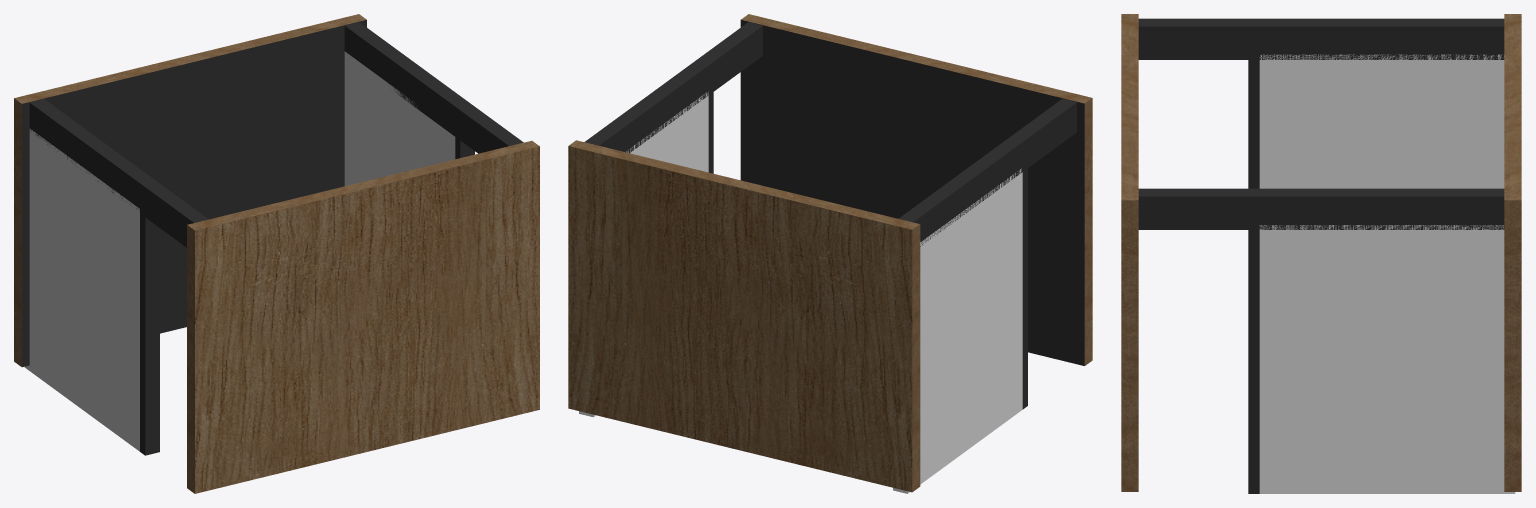
The model's file is vergader.fbx.
3 views of the same model, side by side, from view 1: azimuth 30°, elevation 25°; view 2: azimuth 150°, elevation 25°; view 3: azimuth 270°, elevation 25° (orthographic). The views are drawn at different scales.
Visible parts, largest first — view 1: wood_walls, glass, upper; view 2: wood_walls, glass, upper; view 3: glass, upper, wood_walls.
Boxes of the visible parts, box(x1,y1,x2,y2) form: wood_walls: box(14, 14, 539, 493); glass: box(24, 51, 474, 455); upper: box(29, 22, 523, 247); wood_walls: box(568, 14, 1092, 492); glass: box(579, 90, 1027, 493); upper: box(584, 22, 1076, 246); glass: box(1248, 54, 1515, 493); upper: box(1138, 18, 1504, 229); wood_walls: box(1121, 14, 1521, 491).
Size of the model in its own units: 966 by 719 by 877.
